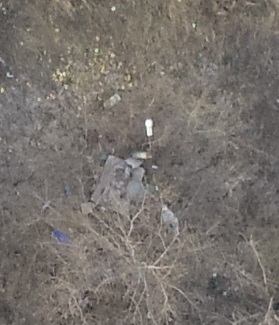opora: (131, 117, 156, 160)
